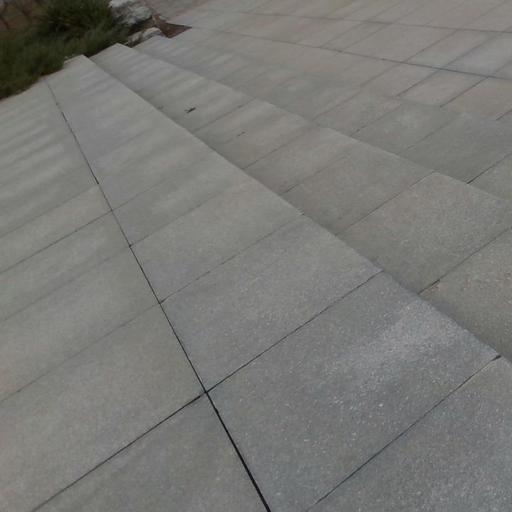stairs: (0, 39, 511, 511), (95, 38, 511, 354)
